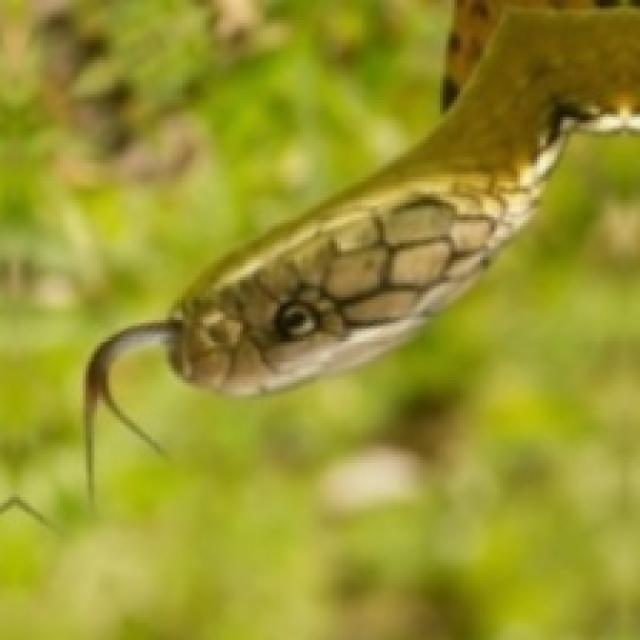king cobra: (86, 0, 637, 497)
